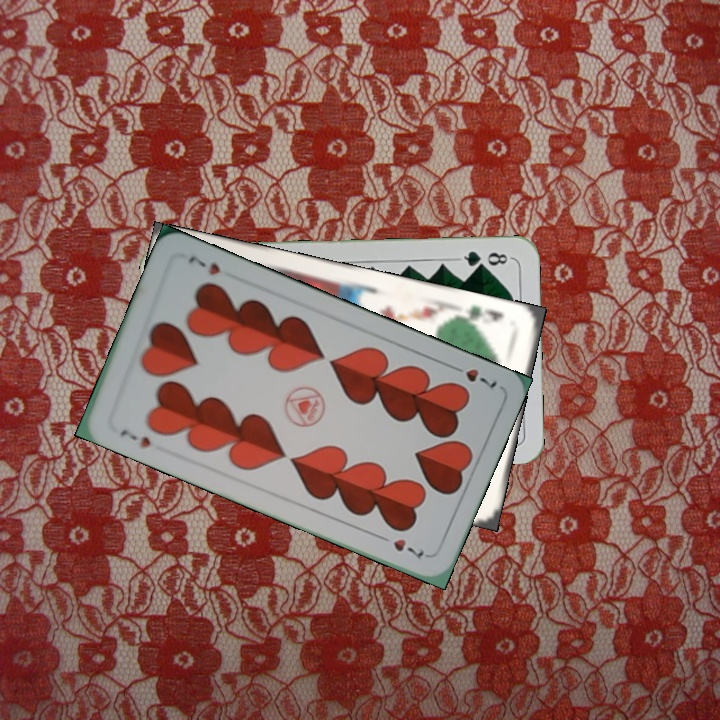G8: (454, 246, 513, 270)
GK: (456, 300, 506, 328)
H7: (445, 360, 500, 391), (116, 424, 154, 451)
